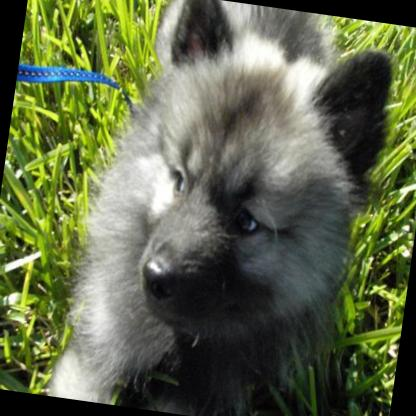keeshond: (48, 0, 396, 416)
